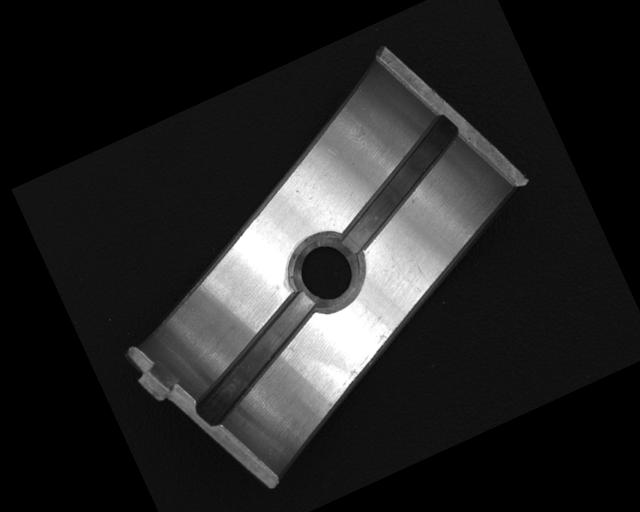gap: (313, 111, 487, 258), (172, 288, 342, 429)
hole: (281, 222, 373, 322)
